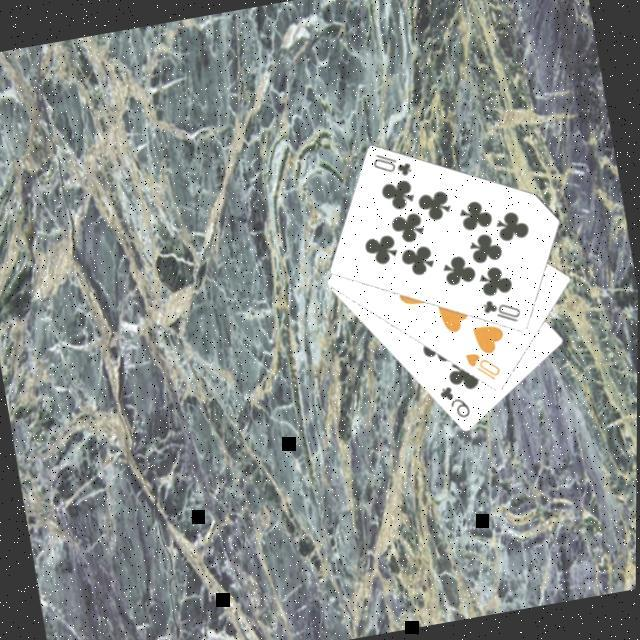10C: (478, 293, 525, 332), (367, 147, 414, 186)
10H: (460, 346, 505, 390)
9C: (435, 382, 473, 427)
